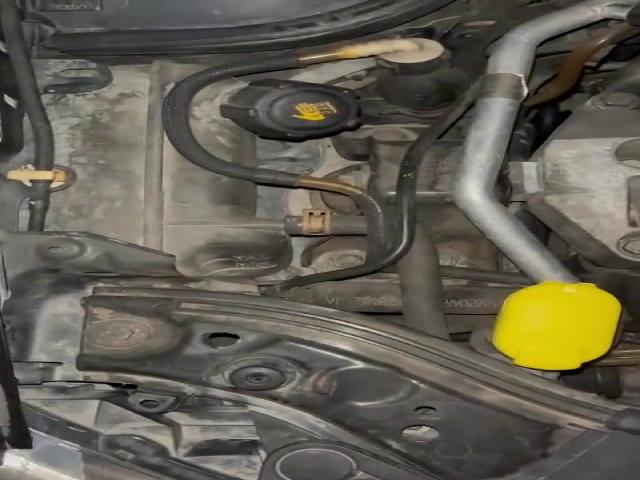antifreeze_tank: (51, 63, 295, 279), (190, 79, 360, 173)
